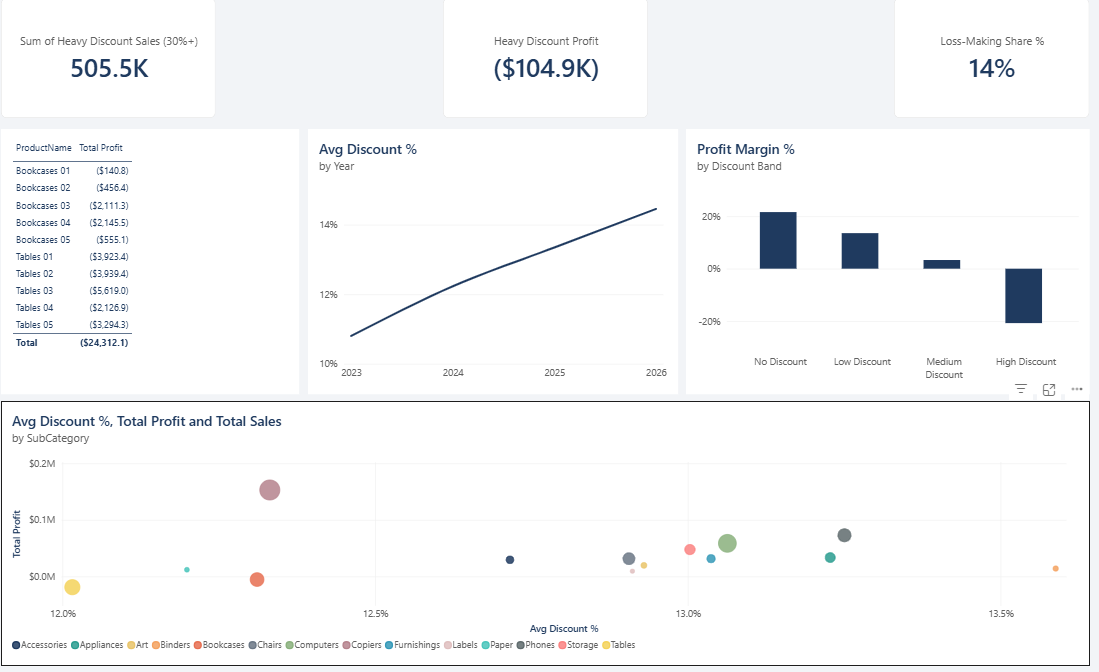

The page's visual inventory and layout, read from the dashboard file:
{"tool":"powerbi","page":{"name":"Discount Damage","canvas":[1920,1080],"ordinal":2},"visuals":[{"type":"clusteredColumnChart","fields":{"Category":["orders.Discount Band"],"Y":["customers.Profit Margin %"]},"box":[1192,261.2,589.4,386.6],"z":0},{"type":"scatterChart","fields":{"Series":["products.SubCategory"],"Size":["customers.Total Sales"],"X":["DateTable.Avg Discount %"],"Y":["customers.Total Profit"]},"box":[192.6,658,1588.8,386.6],"z":1000},{"type":"cardVisual","fields":{"Data":["Sum(orders.Heavy Discount Sales (30%+))"]},"box":[192.6,70,313.7,175.1],"z":2000},{"type":"cardVisual","fields":{"Data":["DateTable.Heavy Discount Profit"]},"box":[837.4,70,299.1,175.1],"z":3000},{"type":"cardVisual","fields":{"Data":["DateTable.Loss-Making Share %"]},"box":[1495.4,70,286,175.1],"z":4000},{"type":"lineChart","fields":{"Category":["DateTable.Year"],"Y":["DateTable.Avg Discount %"]},"box":[640.5,261.2,539.8,386.6],"z":5000},{"type":"tableEx","fields":{"Values":["products.ProductName","customers.Total Profit"]},"box":[192.6,261.2,434.8,386.6],"z":6000}]}

Visuals, with their boxes on the page's 1920x1080 design canvas (x1, y1, x2, y2). These are canvas units, not pixel positions in the 1099x672 screenshot, which may show the page scaled, cropped or inside an application window:
clusteredColumnChart - orders.Discount Band x customers.Profit Margin %: {"x1": 1192, "y1": 261, "x2": 1781, "y2": 648}
scatterChart - products.SubCategory x customers.Total Sales: {"x1": 193, "y1": 658, "x2": 1781, "y2": 1045}
cardVisual - Sum(orders.Heavy Discount Sales (30%+)): {"x1": 193, "y1": 70, "x2": 506, "y2": 245}
cardVisual - DateTable.Heavy Discount Profit: {"x1": 837, "y1": 70, "x2": 1136, "y2": 245}
cardVisual - DateTable.Loss-Making Share %: {"x1": 1495, "y1": 70, "x2": 1781, "y2": 245}
lineChart - DateTable.Year x DateTable.Avg Discount %: {"x1": 640, "y1": 261, "x2": 1180, "y2": 648}
tableEx - products.ProductName x customers.Total Profit: {"x1": 193, "y1": 261, "x2": 627, "y2": 648}
